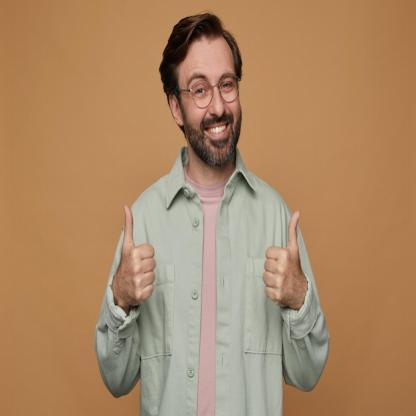thumb_up: (118, 198, 162, 318), (262, 210, 314, 310)
